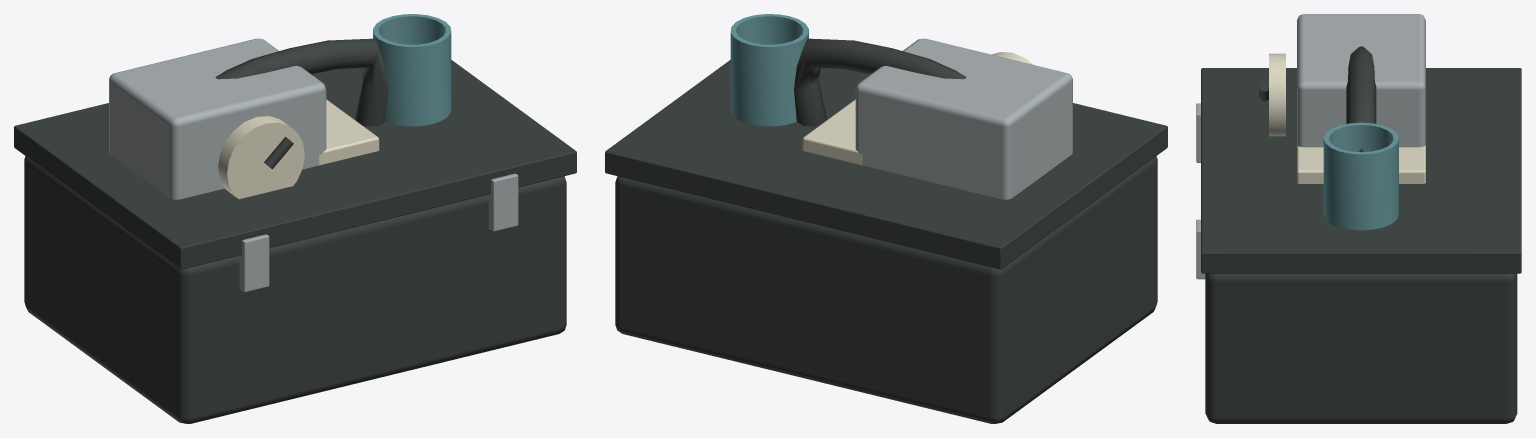
The model's file is research-and-crafting-progression-portable-analysis-ca-eb51cef4__2885.glb.
3 views of the same model, side by side, from view 1: azimuth 30°, elevation 25°; view 2: azimuth 150°, elevation 25°; view 3: azimuth 270°, elevation 25° (orthographic). The views are drawn at different scales.
Visible parts, largest first — view 1: portable-analysis-case, lid/dark; view 2: portable-analysis-case, lid/dark; view 3: portable-analysis-case, lid/dark.
Boxes of the visible parts, x1,y1,x2,y2 form: portable-analysis-case: (24,14,566,423); lid/dark: (14,60,576,269); portable-analysis-case: (615,14,1157,423); lid/dark: (605,60,1167,269); portable-analysis-case: (1196,14,1517,423); lid/dark: (1201,68,1521,273).
Bounding box in the file's own units: 0.408 × 0.2707 × 0.3025.
